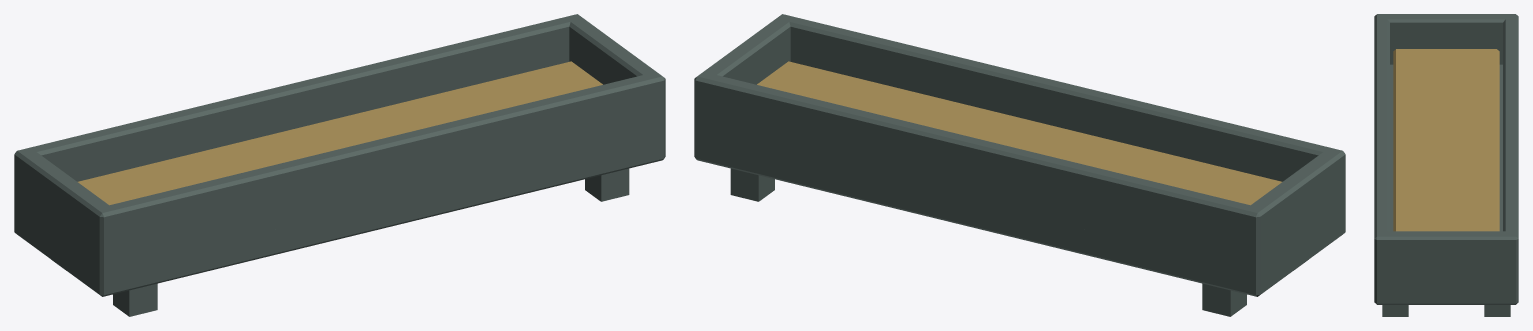
File: SM_Henhouse_FeedTrough_A.fbx
3 renders of one model, left to right at view 1: azimuth 30°, elevation 25°; view 2: azimuth 150°, elevation 25°; view 3: azimuth 270°, elevation 25°, orthographic. The views are drawn at different scales.
Parts seen in each view (by area): view 1: SM_Henhouse_FeedTrough_A; view 2: SM_Henhouse_FeedTrough_A; view 3: SM_Henhouse_FeedTrough_A.
Part boxes in pixels (<box>): SM_Henhouse_FeedTrough_A: <box>14,14,665,316</box>; SM_Henhouse_FeedTrough_A: <box>694,14,1345,316</box>; SM_Henhouse_FeedTrough_A: <box>1374,14,1518,316</box>.
Size of what is drawn, in the model's own units: 65 by 240 by 46.
